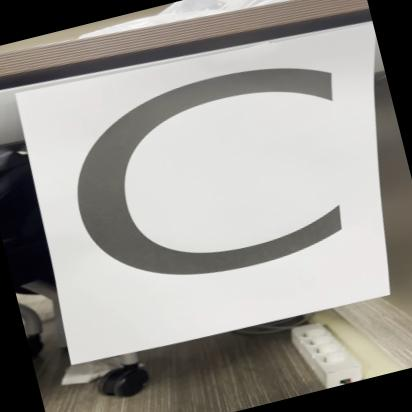seat: (36, 18, 410, 371)
